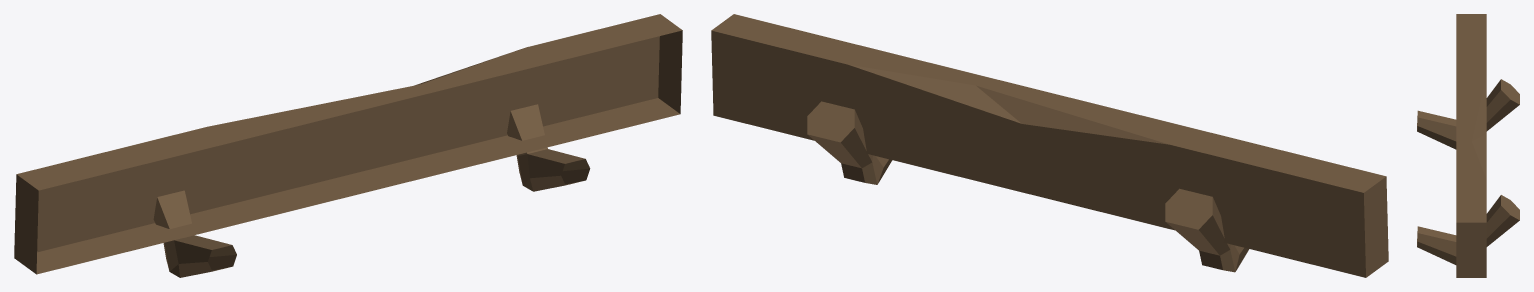
File: rpgpp_ag_door_gate_closed_01.fbx
3 renders of one model, left to right at view 1: azimuth 30°, elevation 25°; view 2: azimuth 150°, elevation 25°; view 3: azimuth 270°, elevation 25°, orthographic. The views are drawn at different scales.
Visible parts, largest first — view 1: rpgpp_ag_door_gate_closed_01; view 2: rpgpp_ag_door_gate_closed_01; view 3: rpgpp_ag_door_gate_closed_01.
Part boxes in pixels (x1,y1,x2,y2): rpgpp_ag_door_gate_closed_01: [14, 14, 682, 277]; rpgpp_ag_door_gate_closed_01: [711, 14, 1388, 277]; rpgpp_ag_door_gate_closed_01: [1417, 14, 1519, 277].
Bounding box in the file's own units: 2.1 × 0.3974 × 0.432.
